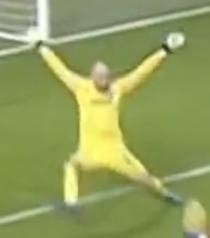goalkeeper: (15, 14, 208, 224)
